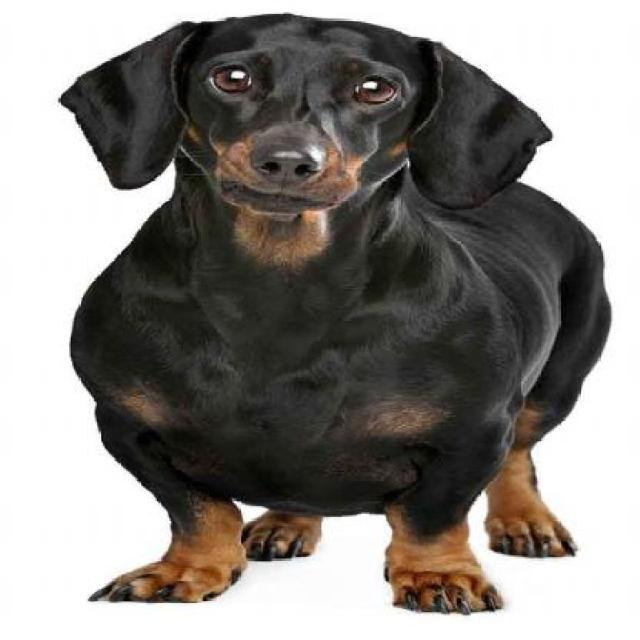Dog: (38, 6, 617, 617)
